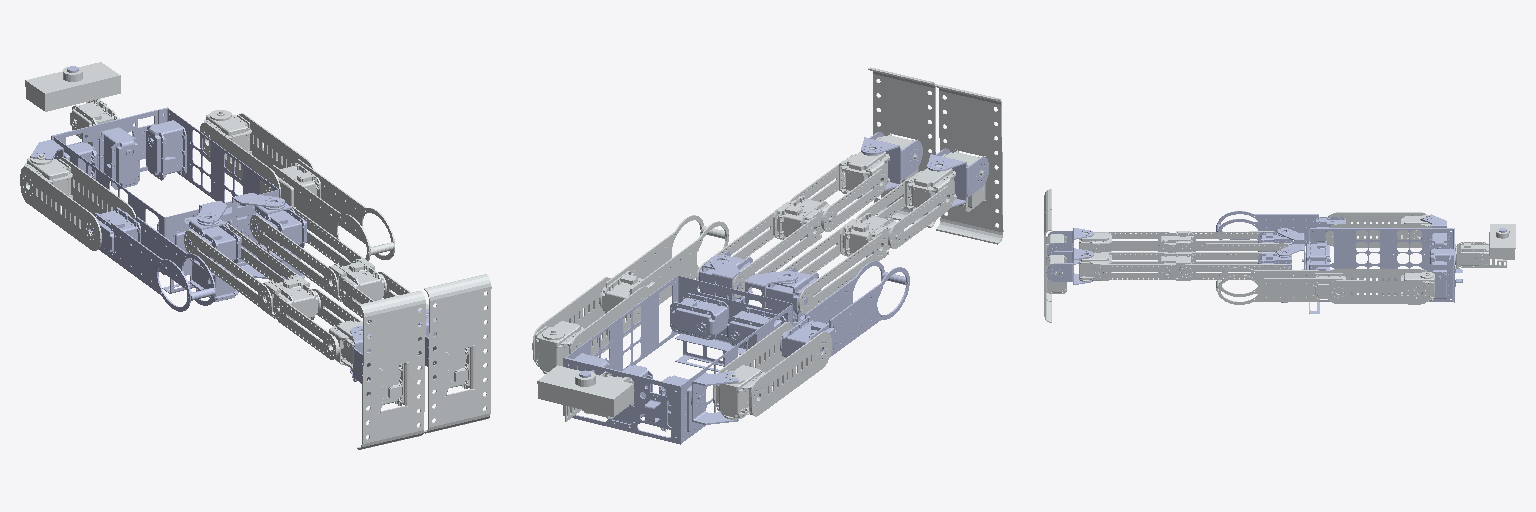
--- Facts derived from the render (not from the file) ---
3 views of the same robot in one strip: view 1: azimuth 30°, elevation 25°; view 2: azimuth 150°, elevation 25°; view 3: azimuth 270°, elevation 25° (orthographic).
Model natasha_large_version with 22 links and 21 joints (20 continuous, 1 fixed), rooted at TRUNK, posed every joint at zero.
Links seen in each view (by area): view 1: TRUNK, RFOOT_link, LFOOT_link, RARM_1_link, RARM_2_link, LLEG_2_link, RLEG_2_link, LARM_2_link, LARM_1_link, HEAD_1_link, RLEG_3_link, RLEG_1_link (+5 smaller); view 2: TRUNK, RFOOT_link, RARM_1_link, LFOOT_link, LARM_1_link, RARM_2_link, RLEG_2_link, LLEG_2_link, LARM_2_link, RLEG_3_link, LLEG_3_link, HEAD_1_link (+7 smaller); view 3: TRUNK, LARM_1_link, LARM_2_link, LLEG_2_link, LLEG_3_link, RARM_1_link, RLEG_2_link, RARM_2_link, RLEG_3_link, HEAD_1_link, LFOOT_link, LLEG_4_link (+2 smaller).
Boxes of the visible links, left/top/right/bottom form: TRUNK: left=51, top=107, right=278, bottom=293; RFOOT_link: left=357, top=291, right=425, bottom=449; LFOOT_link: left=424, top=274, right=491, bottom=433; RARM_1_link: left=20, top=154, right=135, bottom=250; RARM_2_link: left=90, top=207, right=215, bottom=311; LLEG_2_link: left=250, top=206, right=386, bottom=303; RLEG_2_link: left=184, top=222, right=320, bottom=320; LARM_2_link: left=267, top=159, right=394, bottom=262; LARM_1_link: left=200, top=110, right=314, bottom=197; HEAD_1_link: left=25, top=62, right=120, bottom=111; RLEG_3_link: left=273, top=289, right=362, bottom=371; RLEG_1_link: left=188, top=213, right=241, bottom=301; TRUNK: left=563, top=276, right=792, bottom=444; RFOOT_link: left=934, top=84, right=1003, bottom=244; RARM_1_link: left=713, top=322, right=831, bottom=419; LFOOT_link: left=868, top=67, right=935, bottom=227; LARM_1_link: left=532, top=277, right=650, bottom=373; RARM_2_link: left=780, top=261, right=909, bottom=357; RLEG_2_link: left=782, top=213, right=898, bottom=313; LLEG_2_link: left=696, top=196, right=832, bottom=297; LARM_2_link: left=599, top=215, right=728, bottom=317; RLEG_3_link: left=856, top=165, right=956, bottom=248; LLEG_3_link: left=789, top=148, right=889, bottom=231; HEAD_1_link: left=537, top=365, right=633, bottom=421; TRUNK: left=1302, top=228, right=1462, bottom=313; LARM_1_link: left=1325, top=269, right=1434, bottom=304; LARM_2_link: left=1216, top=267, right=1345, bottom=304; LLEG_2_link: left=1161, top=252, right=1291, bottom=280; LLEG_3_link: left=1079, top=252, right=1175, bottom=281; RARM_1_link: left=1325, top=212, right=1431, bottom=247; RLEG_2_link: left=1161, top=231, right=1289, bottom=254; RARM_2_link: left=1216, top=211, right=1345, bottom=245; RLEG_3_link: left=1079, top=232, right=1175, bottom=252; HEAD_1_link: left=1481, top=224, right=1515, bottom=267; LFOOT_link: left=1044, top=210, right=1066, bottom=322; LLEG_4_link: left=1046, top=248, right=1093, bottom=284.
Bounding box of the posed robot: 0.3171 × 0.914 × 0.2016 m (x, y, z).
21 mesh visuals loaded from 22 distinct referenced files (21 binary STL); not drawn: 1 (reference not matched to a file when rendering).

The robot description file, URDF, robot "natasha_large_version":
<?xml version="1.0" encoding="utf-8"?>
<!-- This URDF was automatically created by SolidWorks to URDF Exporter! Originally created by Stephen Brawner ([email redacted]) 
     Commit Version: 1.6.0-1-g15f4949  Build Version: 1.6.7594.29634
     For more information, please see http://wiki.ros.org/sw_urdf_exporter -->
<robot
  name="natasha_large_version">
  <link
    name="TRUNK">
    <inertial>
      <origin
        xyz="3.21531137728245E-06 0.0199722446007501 -0.00076861367046635"
        rpy="0 0 0" />
      <mass
        value="1.26920726032873" />
      <inertia
        ixx="0.000862452850516643"
        ixy="4.76801948849434E-07"
        ixz="3.21564426902003E-07"
        iyy="0.000918320502196375"
        iyz="-2.60433985952879E-05"
        izz="0.00116770299554503" />
    </inertial>
    <visual>
      <origin
        xyz="0 0 0"
        rpy="0 0 0" />
      <geometry>
        <mesh
          filename="package://natasha_large_version/meshes/TRUNK.STL" />
      </geometry>
      <material
        name="">
        <color
          rgba="0.792156862745098 0.819607843137255 0.933333333333333 1" />
      </material>
    </visual>
    <collision>
      <origin
        xyz="0 0 0"
        rpy="0 0 0" />
      <geometry>
        <mesh
          filename="package://natasha_large_version/meshes/TRUNK.STL" />
      </geometry>
    </collision>
  </link>
  <link
    name="LARM_0_link">
    <inertial>
      <origin
        xyz="0.00940240087518637 -0.00459323020780417 2.56257274614535E-05"
        rpy="0 0 0" />
      <mass
        value="0.00841209856959275" />
      <inertia
        ixx="5.77730890287294E-06"
        ixy="6.19456005674588E-07"
        ixz="-3.45595802146455E-09"
        iyy="6.26878480674541E-06"
        iyz="-2.05734681986293E-08"
        izz="2.58125108097758E-06" />
    </inertial>
    <visual>
      <origin
        xyz="0 0 0"
        rpy="0 0 0" />
      <geometry>
        <mesh
          filename="package://natasha_large_version/meshes/LARM_0_link.STL" />
      </geometry>
      <material
        name="">
        <color
          rgba="0.792156862745098 0.819607843137255 0.933333333333333 1" />
      </material>
    </visual>
    <collision>
      <origin
        xyz="0 0 0"
        rpy="0 0 0" />
      <geometry>
        <mesh
          filename="package://natasha_large_version/meshes/LARM_0_link.STL" />
      </geometry>
    </collision>
  </link>
  <joint
    name="LARM_0"
    type="continuous">
    <origin
      xyz="0.0968 0.1115 0.015"
      rpy="0 0 0" />
    <parent
      link="TRUNK" />
    <child
      link="LARM_0_link" />
    <axis
      xyz="-1 0 0" />
  </joint>
  <link
    name="LARM_1_link">
    <inertial>
      <origin
        xyz="3.00359100668945E-06 -0.0257483739604654 -0.0305562866741417"
        rpy="0 0 0" />
      <mass
        value="0.282144038261953" />
      <inertia
        ixx="0.000235599776563821"
        ixy="-5.01177227536898E-09"
        ixz="7.05866128584455E-09"
        iyy="7.18592350177666E-05"
        iyz="-2.13752399757466E-06"
        izz="0.00020311677233329" />
    </inertial>
    <visual>
      <origin
        xyz="0 0 0"
        rpy="0 0 0" />
      <geometry>
        <mesh
          filename="package://natasha_large_version/meshes/LARM_1_link.STL" />
      </geometry>
      <material
        name="">
        <color
          rgba="0.898039215686275 0.917647058823529 0.929411764705882 1" />
      </material>
    </visual>
    <collision>
      <origin
        xyz="0 0 0"
        rpy="0 0 0" />
      <geometry>
        <mesh
          filename="package://natasha_large_version/meshes/LARM_1_link.STL" />
      </geometry>
    </collision>
  </link>
  <joint
    name="LARM_1"
    type="continuous">
    <origin
      xyz="0.0338426329686549 -0.0236234517093273 0.0309322750601174"
      rpy="0 0 0" />
    <parent
      link="LARM_0_link" />
    <child
      link="LARM_1_link" />
    <axis
      xyz="0 0 -1" />
  </joint>
  <link
    name="LARM_2_link">
    <inertial>
      <origin
        xyz="0.0306929728476374 -0.0310158149378891 0.0003129367559844"
        rpy="0 0 0" />
      <mass
        value="0.27293781777133" />
      <inertia
        ixx="0.000179125406082729"
        ixy="2.86957261927918E-06"
        ixz="-2.30638103725574E-08"
        iyy="7.11476477305268E-05"
        iyz="-2.84116422304083E-06"
        izz="0.000195018905956355" />
    </inertial>
    <visual>
      <origin
        xyz="0 0 0"
        rpy="0 0 0" />
      <geometry>
        <mesh
          filename="package://natasha_large_version/meshes/LARM_2_link.STL" />
      </geometry>
      <material
        name="">
        <color
          rgba="0.898039215686275 0.917647058823529 0.929411764705882 1" />
      </material>
    </visual>
    <collision>
      <origin
        xyz="0 0 0"
        rpy="0 0 0" />
      <geometry>
        <mesh
          filename="package://natasha_large_version/meshes/LARM_2_link.STL" />
      </geometry>
    </collision>
  </link>
  <joint
    name="LARM_2"
    type="continuous">
    <origin
      xyz="-0.0306999999999869 -0.172669139288186 -0.029835882971163"
      rpy="0 0 0" />
    <parent
      link="LARM_1_link" />
    <child
      link="LARM_2_link" />
    <axis
      xyz="1 0 0" />
  </joint>
  <link
    name="RARM_0_link">
    <inertial>
      <origin
        xyz="-0.00940240087518641 -0.00459330169048291 -8.57647286522933E-15"
        rpy="0 0 0" />
      <mass
        value="0.00841209856959274" />
      <inertia
        ixx="5.77730890287297E-06"
        ixy="-6.19465646030649E-07"
        ixz="4.93661021143863E-22"
        iyy="6.26889958655513E-06"
        iyz="-2.34198650391147E-21"
        izz="2.58113630116789E-06" />
    </inertial>
    <visual>
      <origin
        xyz="0 0 0"
        rpy="0 0 0" />
      <geometry>
        <mesh
          filename="package://natasha_large_version/meshes/RARM_0_link.STL" />
      </geometry>
      <material
        name="">
        <color
          rgba="0.792156862745098 0.819607843137255 0.933333333333333 1" />
      </material>
    </visual>
    <collision>
      <origin
        xyz="0 0 0"
        rpy="0 0 0" />
      <geometry>
        <mesh
          filename="package://natasha_large_version/meshes/RARM_0_link.STL" />
      </geometry>
    </collision>
  </link>
  <joint
    name="RARM_0"
    type="continuous">
    <origin
      xyz="-0.0968 0.1115 0.015"
      rpy="0 0 0" />
    <parent
      link="TRUNK" />
    <child
      link="RARM_0_link" />
    <axis
      xyz="1 0 0" />
  </joint>
  <link
    name="RARM_1_link">
    <inertial>
      <origin
        xyz="3.00358997740169E-06 -0.0255775017447445 -0.0306994596286303"
        rpy="0 0 0" />
      <mass
        value="0.282144038261623" />
      <inertia
        ixx="0.000235599776566633"
        ixy="-5.05107402263444E-09"
        ixz="7.03059323035076E-09"
        iyy="7.18871701872225E-05"
        iyz="-2.86965669064334E-06"
        izz="0.00020308883716607" />
    </inertial>
    <visual>
      <origin
        xyz="0 0 0"
        rpy="0 0 0" />
      <geometry>
        <mesh
          filename="package://natasha_large_version/meshes/RARM_1_link.STL" />
      </geometry>
      <material
        name="">
        <color
          rgba="0.898039215686275 0.917647058823529 0.929411764705882 1" />
      </material>
    </visual>
    <collision>
      <origin
        xyz="0 0 0"
        rpy="0 0 0" />
      <geometry>
        <mesh
          filename="package://natasha_large_version/meshes/RARM_1_link.STL" />
      </geometry>
    </collision>
  </link>
  <joint
    name="RARM_1"
    type="continuous">
    <origin
      xyz="-0.0338426329686426 -0.0237956531967124 0.0307999999999913"
      rpy="0 0 0" />
    <parent
      link="RARM_0_link" />
    <child
      link="RARM_1_link" />
    <axis
      xyz="0 0 -1" />
  </joint>
  <link
    name="RARM_2_link">
    <inertial>
      <origin
        xyz="-0.0305140974902367 -0.0312468497287387 -0.000140933216771333"
        rpy="0 0 0" />
      <mass
        value="0.270930787978609" />
      <inertia
        ixx="0.000178890790974223"
        ixy="-2.86965663321463E-06"
        ixz="-7.05429511612378E-09"
        iyy="7.10643926880802E-05"
        iyz="3.53204228498498E-06"
        izz="0.000194864532410531" />
    </inertial>
    <visual>
      <origin
        xyz="0 0 0"
        rpy="0 0 0" />
      <geometry>
        <mesh
          filename="package://natasha_large_version/meshes/RARM_2_link.STL" />
      </geometry>
      <material
        name="">
        <color
          rgba="0.792156862745098 0.819607843137255 0.933333333333333 1" />
      </material>
    </visual>
    <collision>
      <origin
        xyz="0 0 0"
        rpy="0 0 0" />
      <geometry>
        <mesh
          filename="package://natasha_large_version/meshes/RARM_2_link.STL" />
      </geometry>
    </collision>
  </link>
  <joint
    name="RARM_2"
    type="continuous">
    <origin
      xyz="0.0306999999999747 -0.172499999994899 -0.0308012715955298"
      rpy="0 0 0" />
    <parent
      link="RARM_1_link" />
    <child
      link="RARM_2_link" />
    <axis
      xyz="-1 0 0" />
  </joint>
  <link
    name="LLEG_0_link">
    <inertial>
      <origin
        xyz="0.00612203013391536 -0.0103947051970067 -4.9359241315633E-05"
        rpy="0 0 0" />
      <mass
        value="0.0105539011684931" />
      <inertia
        ixx="2.17100692074752E-05"
        ixy="1.31739083355003E-06"
        ixz="-1.39996221652366E-07"
        iyy="2.08986152822178E-05"
        iyz="-1.06215439396316E-08"
        izz="4.34745682743105E-06" />
    </inertial>
    <visual>
      <origin
        xyz="0 0 0"
        rpy="0 0 0" />
      <geometry>
        <mesh
          filename="package://natasha_large_version/meshes/LLEG_0_link.STL" />
      </geometry>
      <material
        name="">
        <color
          rgba="0.792156862745098 0.819607843137255 0.933333333333333 1" />
      </material>
    </visual>
    <collision>
      <origin
        xyz="0 0 0"
        rpy="0 0 0" />
      <geometry>
        <mesh
          filename="package://natasha_large_version/meshes/LLEG_0_link.STL" />
      </geometry>
    </collision>
  </link>
  <joint
    name="LLEG_0"
    type="continuous">
    <origin
      xyz="0.024 -0.1548 0"
      rpy="0 0 0" />
    <parent
      link="TRUNK" />
    <child
      link="LLEG_0_link" />
    <axis
      xyz="0 1 0" />
  </joint>
  <link
    name="LLEG_1_link">
    <inertial>
      <origin
        xyz="0.000490083874728403 -0.0147653879092084 0.0547732575073225"
        rpy="0 0 0" />
      <mass
        value="0.181419970836516" />
      <inertia
        ixx="7.50578103372844E-05"
        ixy="-4.54616664216692E-07"
        ixz="5.84190838612279E-09"
        iyy="4.76781980937785E-05"
        iyz="4.52688057648414E-07"
        izz="7.57823474976998E-05" />
    </inertial>
    <visual>
      <origin
        xyz="0 0 0"
        rpy="0 0 0" />
      <geometry>
        <mesh
          filename="package://natasha_large_version/meshes/LLEG_1_link.STL" />
      </geometry>
      <material
        name="">
        <color
          rgba="0.792156862745098 0.819607843137255 0.933333333333333 1" />
      </material>
    </visual>
    <collision>
      <origin
        xyz="0 0 0"
        rpy="0 0 0" />
      <geometry>
        <mesh
          filename="package://natasha_large_version/meshes/LLEG_1_link.STL" />
      </geometry>
    </collision>
  </link>
  <joint
    name="LLEG_1"
    type="continuous">
    <origin
      xyz="0.023655735941974 -0.0342918830920366 -0.0541924809172262"
      rpy="0 0 0" />
    <parent
      link="LLEG_0_link" />
    <child
      link="LLEG_1_link" />
    <axis
      xyz="0 0 1" />
  </joint>
  <link
    name="LLEG_2_link">
    <inertial>
      <origin
        xyz="-0.0301565669221788 -0.161876682091609 0.000241171769913784"
        rpy="0 0 0" />
      <mass
        value="0.159540670084124" />
      <inertia
        ixx="0.000293469086188188"
        ixy="-1.06334592206261E-06"
        ixz="8.81938752457176E-09"
        iyy="3.1046812381603E-05"
        iyz="6.70401268151818E-09"
        izz="0.000294252015901616" />
    </inertial>
    <visual>
      <origin
        xyz="0 0 0"
        rpy="0 0 0" />
      <geometry>
        <mesh
          filename="package://natasha_large_version/meshes/LLEG_2_link.STL" />
      </geometry>
      <material
        name="">
        <color
          rgba="0.898039215686275 0.917647058823529 0.929411764705882 1" />
      </material>
    </visual>
    <collision>
      <origin
        xyz="0 0 0"
        rpy="0 0 0" />
      <geometry>
        <mesh
          filename="package://natasha_large_version/meshes/LLEG_2_link.STL" />
      </geometry>
    </collision>
  </link>
  <joint
    name="LLEG_2"
    type="continuous">
    <origin
      xyz="0.0316036648943565 0 0.0747476311681364"
      rpy="0 0 0" />
    <parent
      link="LLEG_1_link" />
    <child
      link="LLEG_2_link" />
    <axis
      xyz="-1 0 0" />
  </joint>
  <link
    name="LLEG_3_link">
    <inertial>
      <origin
        xyz="0.0316277847353485 -0.130369107458375 -0.000344713442999328"
        rpy="0 0 0" />
      <mass
        value="0.303876403523408" />
      <inertia
        ixx="0.000214694101119081"
        ixy="-1.80851203817404E-08"
        ixz="-2.57038988582136E-07"
        iyy="7.05223178071358E-05"
        iyz="-2.86960414758001E-06"
        izz="0.00018368763075357" />
    </inertial>
    <visual>
      <origin
        xyz="0 0 0"
        rpy="0 0 0" />
      <geometry>
        <mesh
          filename="package://natasha_large_version/meshes/LLEG_3_link.STL" />
      </geometry>
      <material
        name="">
        <color
          rgba="0.898039215686275 0.917647058823529 0.929411764705882 1" />
      </material>
    </visual>
    <collision>
      <origin
        xyz="0 0 0"
        rpy="0 0 0" />
      <geometry>
        <mesh
          filename="package://natasha_large_version/meshes/LLEG_3_link.STL" />
      </geometry>
    </collision>
  </link>
  <joint
    name="LLEG_3"
    type="continuous">
    <origin
      xyz="-0.0607980239476936 -0.226000000000008 0.00049018777589982"
      rpy="0 0 0" />
    <parent
      link="LLEG_2_link" />
    <child
      link="LLEG_3_link" />
    <axis
      xyz="1 0 0" />
  </joint>
  <link
    name="LLEG_4_link">
    <inertial>
      <origin
        xyz="0.000248318807572437 -0.0298481620218618 0.0307989989735024"
        rpy="0 0 0" />
      <mass
        value="0.0178124172693719" />
      <inertia
        ixx="1.29037915829976E-05"
        ixy="5.51639432831206E-21"
        ixz="1.05840415522657E-08"
        iyy="1.31225982820873E-05"
        iyz="9.15483685050164E-21"
        izz="1.42164456583534E-05" />
    </inertial>
    <visual>
      <origin
        xyz="0 0 0"
        rpy="0 0 0" />
      <geometry>
        <mesh
          filename="package://natasha_large_version/meshes/LLEG_4_link.STL" />
      </geometry>
      <material
        name="">
        <color
          rgba="0.792156862745098 0.819607843137255 0.933333333333333 1" />
      </material>
    </visual>
    <collision>
      <origin
        xyz="0 0 0"
        rpy="0 0 0" />
      <geometry>
        <mesh
          filename="package://natasha_large_version/meshes/LLEG_4_link.STL" />
      </geometry>
    </collision>
  </link>
  <joint
    name="LLEG_4"
    type="continuous">
    <origin
      xyz="0.032051 -0.159 -0.031059"
      rpy="0 0 0" />
    <parent
      link="LLEG_3_link" />
    <child
      link="LLEG_4_link" />
    <axis
      xyz="0 0 1" />
  </joint>
  <link
    name="LFOOT_link">
    <inertial>
      <origin
        xyz="0.0305920589025173 -0.00282506301285901 -0.013461611204285"
        rpy="0 0 0" />
      <mass
        value="0.271509815127884" />
      <inertia
        ixx="0.000228930028031411"
        ixy="8.70837809135713E-09"
        ixz="1.72701553308135E-06"
        iyy="0.000276272831150935"
        iyz="2.08043568732605E-07"
        izz="8.71711047249699E-05" />
    </inertial>
    <visual>
      <origin
        xyz="0 0 0"
        rpy="0 0 0" />
      <geometry>
        <mesh
          filename="package://natasha_large_version/meshes/LFOOT_link.STL" />
      </geometry>
      <material
        name="">
        <color
          rgba="0.898039215686275 0.917647058823529 0.929411764705882 1" />
      </material>
    </visual>
    <collision>
      <origin
        xyz="0 0 0"
        rpy="0 0 0" />
      <geometry>
        <mesh
          filename="package://natasha_large_version/meshes/LFOOT_link.STL" />
      </geometry>
    </collision>
  </link>
  <joint
    name="LFOOT"
    type="continuous">
    <origin
      xyz="-0.0306506769158439 -0.0564732 0.0310481240109878"
      rpy="0 0 0" />
    <parent
      link="LLEG_4_link" />
    <child
      link="LFOOT_link" />
    <axis
      xyz="1 0 0" />
  </joint>
  <link
    name="HEAD_0_link">
    <inertial>
      <origin
        xyz="0.000410296923872701 0.0288664319394756 0.00646679384756663"
        rpy="0 0 0" />
      <mass
        value="0.0798085141057842" />
      <inertia
        ixx="2.56842385883305E-05"
        ixy="-8.80458733494781E-07"
        ixz="3.93515602357504E-09"
        iyy="1.90695023746044E-05"
        iyz="-1.68607462942675E-08"
        izz="3.14106441377739E-05" />
    </inertial>
    <visual>
      <origin
        xyz="0 0 0"
        rpy="0 0 0" />
      <geometry>
        <mesh
          filename="package://natasha_large_version/meshes/HEAD_0_link.STL" />
      </geometry>
      <material
        name="">
        <color
          rgba="0.898039215686275 0.917647058823529 0.929411764705882 1" />
      </material>
    </visual>
    <collision>
      <origin
        xyz="0 0 0"
        rpy="0 0 0" />
      <geometry>
        <mesh
          filename="package://natasha_large_version/meshes/HEAD_0_link.STL" />
      </geometry>
    </collision>
  </link>
  <joint
    name="HEAD_0"
    type="continuous">
    <origin
      xyz="0 0.1478 0.0155"
      rpy="0 0 0" />
    <parent
      link="TRUNK" />
    <child
      link="HEAD_0_link" />
    <axis
      xyz="0 -1 0" />
  </joint>
  <link
    name="HEAD_1_link">
    <inertial>
      <origin
        xyz="-0.0258400943742263 0.0381573454262648 0.0274492787854138"
        rpy="0 0 0" />
      <mass
        value="0.152326806226058" />
      <inertia
        ixx="4.05123320248275E-05"
        ixy="-7.60171191903906E-07"
        ixz="-7.43431564751296E-07"
        iyy="0.000149994189718149"
        iyz="-3.30076136433724E-08"
        izz="0.000171180503658015" />
    </inertial>
    <visual>
      <origin
        xyz="0 0 0"
        rpy="0 0 0" />
      <geometry>
        <mesh
          filename="package://natasha_large_version/meshes/HEAD_1_link.STL" />
      </geometry>
      <material
        name="">
        <color
          rgba="0.898039215686275 0.917647058823529 0.929411764705882 1" />
      </material>
    </visual>
    <collision>
      <origin
        xyz="0 0 0"
        rpy="0 0 0" />
      <geometry>
        <mesh
          filename="package://natasha_large_version/meshes/HEAD_1_link.STL" />
      </geometry>
    </collision>
  </link>
  <joint
    name="HEAD_1"
    type="continuous">
    <origin
      xyz="0.0280000000000008 0.0472 0.00699999999999479"
      rpy="0 0 0" />
    <parent
      link="HEAD_0_link" />
    <child
      link="HEAD_1_link" />
    <axis
      xyz="-1 0 0" />
  </joint>
  <link
    name="CAM_link">
    <inertial>
      <origin
        xyz="4.33680868994202E-19 -4.07517424374504E-05 -0.00148592778088158"
        rpy="0 0 0" />
      <mass
        value="0.000523075176822697" />
      <inertia
        ixx="7.84102521765054E-09"
        ixy="6.74552439658311E-25"
        ixz="2.46012722170761E-23"
        iyy="7.84633230302992E-09"
        iyz="1.93511863028883E-10"
        izz="1.48970340164646E-08" />
    </inertial>
    <visual>
      <origin
        xyz="0 0 0"
        rpy="0 0 0" />
      <geometry>
        <mesh
          filename="package://natasha_large_version/meshes/CAM_link.STL" />
      </geometry>
      <material
        name="">
        <color
          rgba="0.792156862745098 0.819607843137255 0.933333333333333 1" />
      </material>
    </visual>
    <collision>
      <origin
        xyz="0 0 0"
        rpy="0 0 0" />
      <geometry>
        <mesh
          filename="package://natasha_large_version/meshes/CAM_link.STL" />
      </geometry>
    </collision>
  </link>
  <joint
    name="CAM"
    type="fixed">
    <origin
      xyz="-0.0279999999999998 0.0394935319232594 0.0539375651677464"
      rpy="0 0 0" />
    <parent
      link="HEAD_1_link" />
    <child
      link="CAM_link" />
    <axis
      xyz="0 0 0" />
  </joint>
  <link
    name="RLEG_0_link">
    <inertial>
      <origin
        xyz="-0.00612167967049726 -0.0103947051970069 8.20201627594885E-05"
        rpy="0 0 0" />
      <mass
        value="0.0105539011684931" />
      <inertia
        ixx="2.17080812453927E-05"
        ixy="-1.31731541783251E-06"
        ixz="-2.3261815308638E-07"
        iyy="2.08986152822176E-05"
        iyz="1.76498005098407E-08"
        izz="4.34944478951339E-06" />
    </inertial>
    <visual>
      <origin
        xyz="0 0 0"
        rpy="0 0 0" />
      <geometry>
        <mesh
          filename="package://natasha_large_version/meshes/RLEG_0_link.STL" />
      </geometry>
      <material
        name="">
        <color
          rgba="0.792156862745098 0.819607843137255 0.933333333333333 1" />
      </material>
    </visual>
    <collision>
      <origin
        xyz="0 0 0"
        rpy="0 0 0" />
      <geometry>
        <mesh
          filename="package://natasha_large_version/meshes/RLEG_0_link.STL" />
      </geometry>
    </collision>
  </link>
  <joint
    name="RLEG_0"
    type="continuous">
    <origin
      xyz="-0.024 -0.1548 0"
      rpy="0 0 0" />
    <parent
      link="TRUNK" />
    <child
      link="RLEG_0_link" />
    <axis
      xyz="0 1 0" />
  </joint>
  <link
    name="RLEG_1_link">
    <inertial>
      <origin
        xyz="0.000782297531256276 -0.0147653879058548 0.054769863344079"
        rpy="0 0 0" />
      <mass
        value="0.181419970868412" />
      <inertia
        ixx="7.50578933077612E-05"
        ixy="-4.52195058995045E-07"
        ixz="9.70699692256529E-09"
        iyy="4.76781980989049E-05"
        iyz="4.55107039207314E-07"
        izz="7.57822645562642E-05" />
    </inertial>
    <visual>
      <origin
        xyz="0 0 0"
        rpy="0 0 0" />
      <geometry>
        <mesh
          filename="package://natasha_large_version/meshes/RLEG_1_link.STL" />
      </geometry>
      <material
        name="">
        <color
          rgba="0.792156862745098 0.819607843137255 0.933333333333333 1" />
      </material>
    </visual>
    <collision>
      <origin
        xyz="0 0 0"
        rpy="0 0 0" />
      <geometry>
        <mesh
          filename="package://natasha_large_version/meshes/RLEG_1_link.STL" />
      </geometry>
    </collision>
  </link>
  <joint
    name="RLEG_1"
    type="continuous">
    <origin
      xyz="-0.024813164775028 -0.034291883092037 -0.053672392202768"
      rpy="0 0 0" />
    <parent
      link="RLEG_0_link" />
    <child
      link="RLEG_1_link" />
    <axis
      xyz="0 0 1" />
  </joint>
  <link
    name="RLEG_2_link">
    <inertial>
      <origin
        xyz="-0.0301695503666304 -0.161872950308964 -0.000695044452108579"
        rpy="0 0 0" />
      <mass
        value="0.159540670083779" />
      <inertia
        ixx="0.000293469007299364"
        ixy="-1.08718753191533E-06"
        ixz="5.62855354016357E-09"
        iyy="3.10589296950973E-05"
        iyz="-1.77142632039411E-06"
        izz="0.000294239977479449" />
    </inertial>
    <visual>
      <origin
        xyz="0 0 0"
        rpy="0 0 0" />
      <geometry>
        <mesh
          filename="package://natasha_large_version/meshes/RLEG_2_link.STL" />
      </geometry>
      <material
        name="">
        <color
          rgba="0.898039215686275 0.917647058823529 0.929411764705882 1" />
      </material>
    </visual>
    <collision>
      <origin
        xyz="0 0 0"
        rpy="0 0 0" />
      <geometry>
        <mesh
          filename="package://natasha_large_version/meshes/RLEG_2_link.STL" />
      </geometry>
    </collision>
  </link>
  <joint
    name="RLEG_2"
    type="continuous">
    <origin
      xyz="0.0320020009737805 0 0.0745779587657983"
      rpy="0 0 0" />
    <parent
      link="RLEG_1_link" />
    <child
      link="RLEG_2_link" />
    <axis
      xyz="-1 0 0" />
  </joint>
  <link
    name="RLEG_3_link">
    <inertial>
      <origin
        xyz="0.0316180462213434 -0.130059855148996 -0.000528088639634272"
        rpy="0 0 0" />
      <mass
        value="0.300624517298702" />
      <inertia
        ixx="0.000214502759965271"
        ixy="-3.04562405033601E-08"
        ixz="-4.24766650547242E-07"
        iyy="7.03238705271436E-05"
        iyz="-2.64914364757082E-06"
        izz="0.000183330990426917" />
    </inertial>
    <visual>
      <origin
        xyz="0 0 0"
        rpy="0 0 0" />
      <geometry>
        <mesh
          filename="package://natasha_large_version/meshes/RLEG_3_link.STL" />
      </geometry>
      <material
        name="">
        <color
          rgba="0.898039215686275 0.917647058823529 0.929411764705882 1" />
      </material>
    </visual>
    <collision>
      <origin
        xyz="0 0 0"
        rpy="0 0 0" />
      <geometry>
        <mesh
          filename="package://natasha_large_version/meshes/RLEG_3_link.STL" />
      </geometry>
    </collision>
  </link>
  <joint
    name="RLEG_3"
    type="continuous">
    <origin
      xyz="-0.060815 -0.22599 -0.00071715"
      rpy="0 0 0" />
    <parent
      link="RLEG_2_link" />
    <child
      link="RLEG_3_link" />
    <axis
      xyz="-1 0 0" />
  </joint>
  <link
    name="RLEG_4_link">
    <inertial>
      <origin
        xyz="0.000413409934611461 -0.029788042340897 0.0308553788148227"
        rpy="0 0 0" />
      <mass
        value="0.0178124172693719" />
      <inertia
        ixx="1.29039418768306E-05"
        ixy="2.85796301667499E-11"
        ixz="1.75864203140511E-08"
        iyy="1.31226024421718E-05"
        iyz="2.13307722245965E-09"
        izz="1.42162912044359E-05" />
    </inertial>
    <visual>
      <origin
        xyz="0 0 0"
        rpy="0 0 0" />
      <geometry>
        <mesh
          filename="package://natasha_large_version/meshes/RLEG_4_link.STL" />
      </geometry>
      <material
        name="">
        <color
          rgba="0.792156862745098 0.819607843137255 0.933333333333333 1" />
      </material>
    </visual>
    <collision>
      <origin
        xyz="0 0 0"
        rpy="0 0 0" />
      <geometry>
        <mesh
          filename="package://natasha_large_version/meshes/RLEG_4_link.STL" />
      </geometry>
    </collision>
  </link>
  <joint
    name="RLEG_4"
    type="continuous">
    <origin
      xyz="0.0318886250707946 -0.159059760598063 -0.0309198665841209"
      rpy="0 0 0" />
    <parent
      link="RLEG_3_link" />
    <child
      link="RLEG_4_link" />
    <axis
      xyz="0 0 1" />
  </joint>
  <link
    name="RFOOT_link">
    <inertial>
      <origin
        xyz="0.030519804524347 -0.00282506301278151 -0.0136246312201019"
        rpy="0 0 0" />
      <mass
        value="0.27150981513215" />
      <inertia
        ixx="0.000228944420441069"
        ixy="9.81818589585159E-09"
        ixz="9.70630393834094E-07"
        iyy="0.000276272831152002"
        iyz="2.0799414771359E-07"
        izz="8.71567123165016E-05" />
    </inertial>
    <visual>
      <origin
        xyz="0 0 0"
        rpy="0 0 0" />
      <geometry>
        <mesh
          filename="package://natasha_large_version/meshes/RFOOT_link.STL" />
      </geometry>
      <material
        name="">
        <color
          rgba="0.898039215686275 0.917647058823529 0.929411764705882 1" />
      </material>
    </visual>
    <collision>
      <origin
        xyz="0 0 0"
        rpy="0 0 0" />
      <geometry>
        <mesh
          filename="package://natasha_large_version/meshes/RFOOT_link.STL" />
      </geometry>
    </collision>
  </link>
  <joint
    name="RFOOT"
    type="continuous">
    <origin
      xyz="-0.0304831213404382 -0.0564130296932004 0.0313212661369003"
      rpy="0 0 0" />
    <parent
      link="RLEG_4_link" />
    <child
      link="RFOOT_link" />
    <axis
      xyz="1 0 0" />
  </joint>
</robot>
